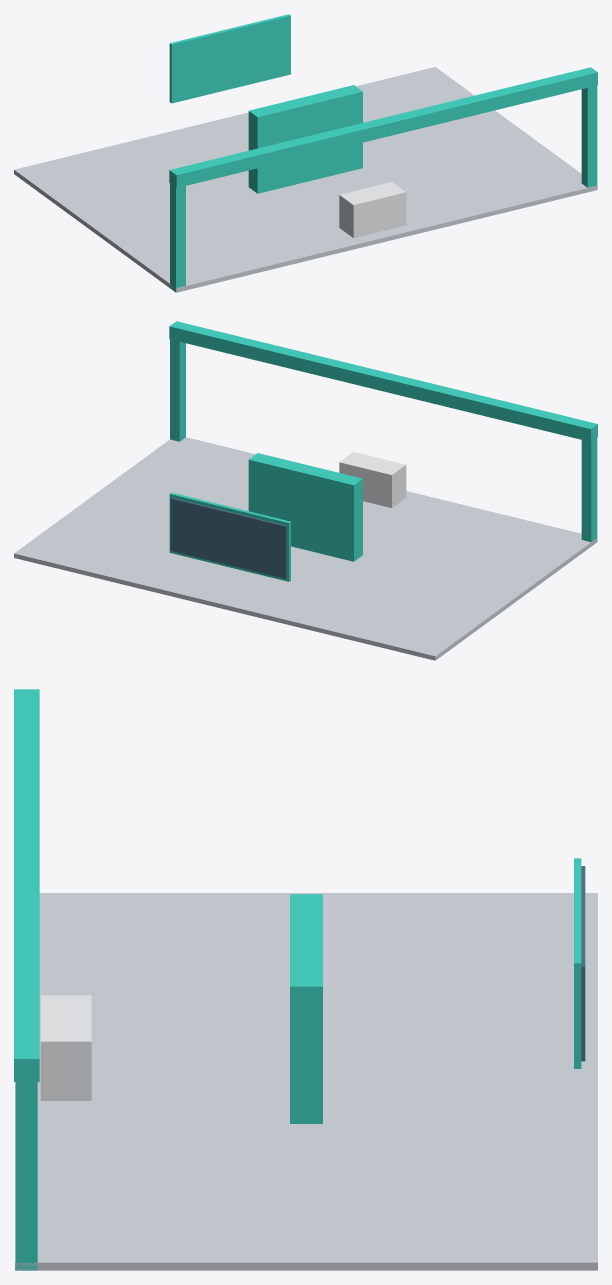
The picture shows the model from 3 angles, top to bottom: view 1: azimuth 30°, elevation 25°; view 2: azimuth 150°, elevation 25°; view 3: azimuth 270°, elevation 25°; orthographic projection. The views are drawn at different scales.
Parts seen in each view (by area): view 1: Exhibition Booth Concept; view 2: Exhibition Booth Concept; view 3: Exhibition Booth Concept.
Boxes of the visible parts, x1=… form: Exhibition Booth Concept: x1=14, y1=14, x2=597, y2=292; Exhibition Booth Concept: x1=14, y1=321, x2=597, y2=660; Exhibition Booth Concept: x1=14, y1=689, x2=597, y2=1270.
Bounding box in the file's own units: 12 × 3.2 × 8.01.
